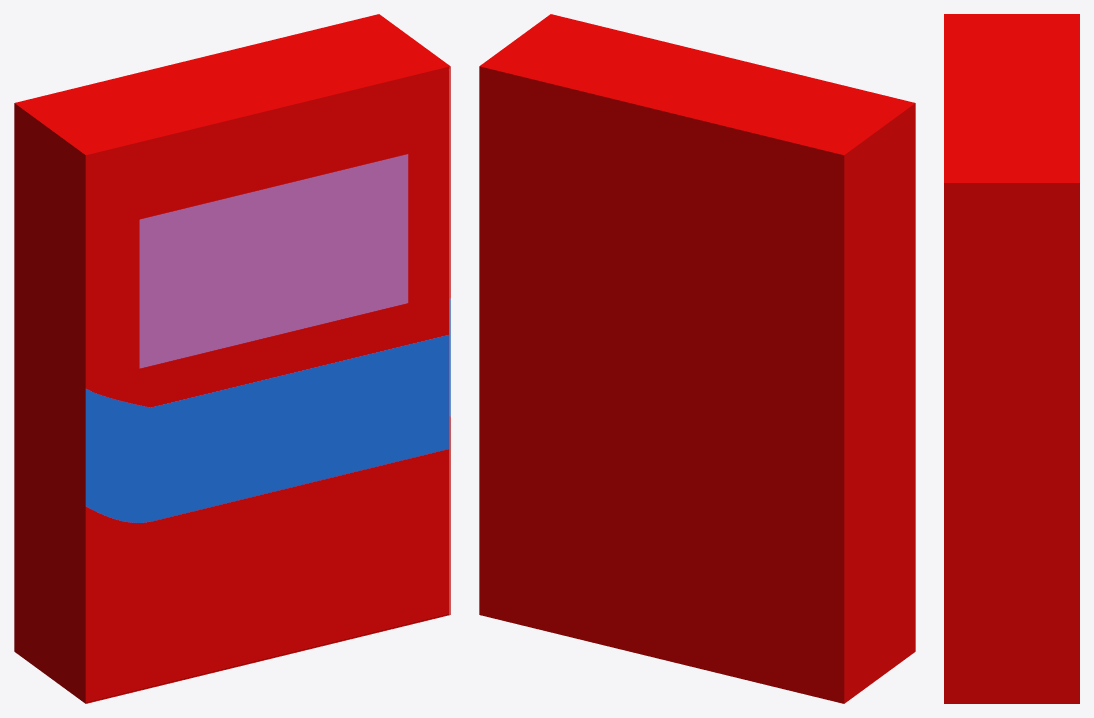
File: shina.fbx
The picture shows the model from 3 angles, left to right: view 1: azimuth 30°, elevation 25°; view 2: azimuth 150°, elevation 25°; view 3: azimuth 270°, elevation 25°; orthographic projection. The views are drawn at different scales.
Visible parts, largest first — view 1: pCube3; view 2: pCube3; view 3: pCube3.
Part boxes in pixels (box(x1,y1,x2,y2)): pCube3: box(14, 14, 450, 703); pCube3: box(479, 14, 915, 703); pCube3: box(944, 14, 1079, 703).
Bounding box in the file's own units: 2.54 × 3.65 × 0.8623.
Materials: 1 (1 with a texture image).
